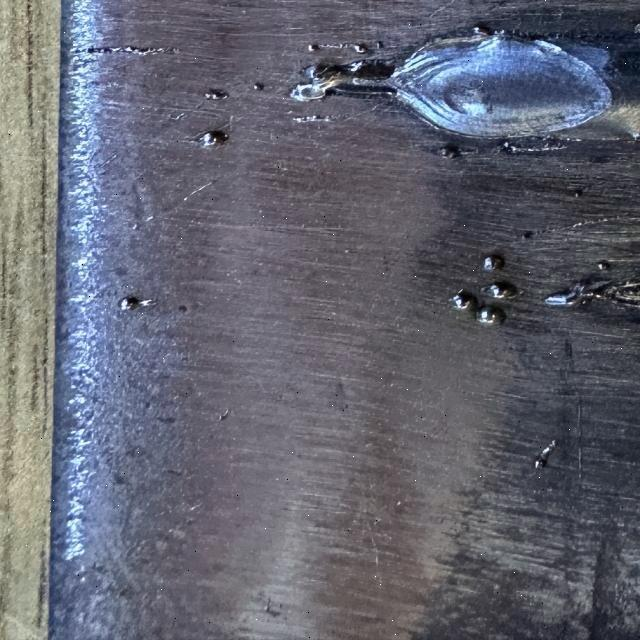Excess Reinforcement: (290, 60, 397, 101)
Spatters: (545, 282, 585, 305), (87, 46, 180, 54), (535, 440, 557, 468), (482, 282, 518, 298), (448, 290, 478, 309), (198, 130, 228, 146), (477, 308, 505, 324), (292, 115, 337, 124), (535, 446, 553, 468), (483, 255, 505, 271), (120, 296, 140, 310), (205, 89, 228, 99), (438, 148, 453, 158), (353, 44, 367, 53), (598, 261, 610, 270), (633, 22, 640, 34), (308, 44, 320, 51), (253, 82, 263, 90), (597, 261, 605, 270), (377, 41, 383, 48)
